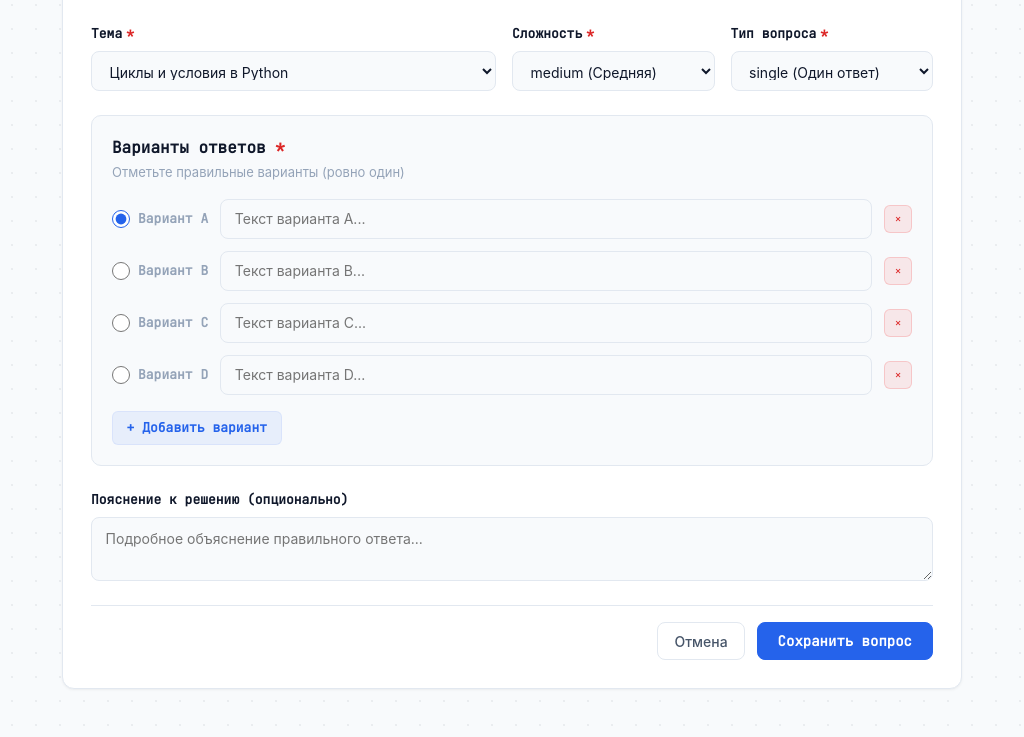
Test: TeacherQuestionFormPage component › displays validation errors when submitting empty form
(page scrolled)
Click the button "Сохранить вопрос" at (845, 641), box [757, 622, 933, 660]
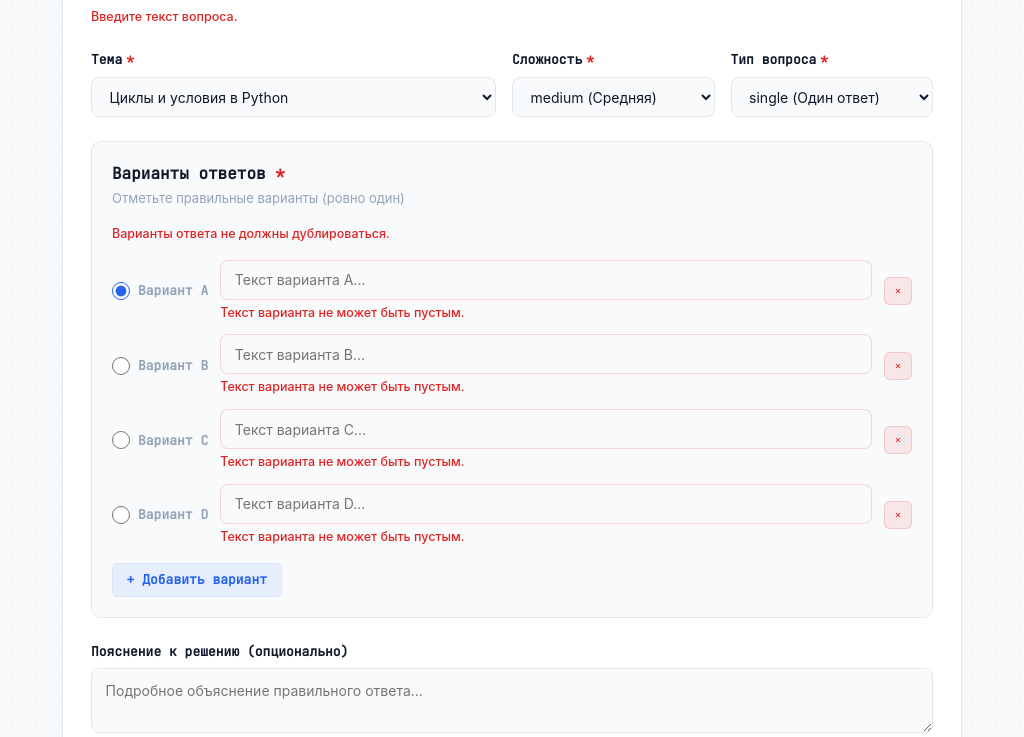
expect the text "Введите текст вопроса." is shown: met, box [91, 9, 237, 24]
